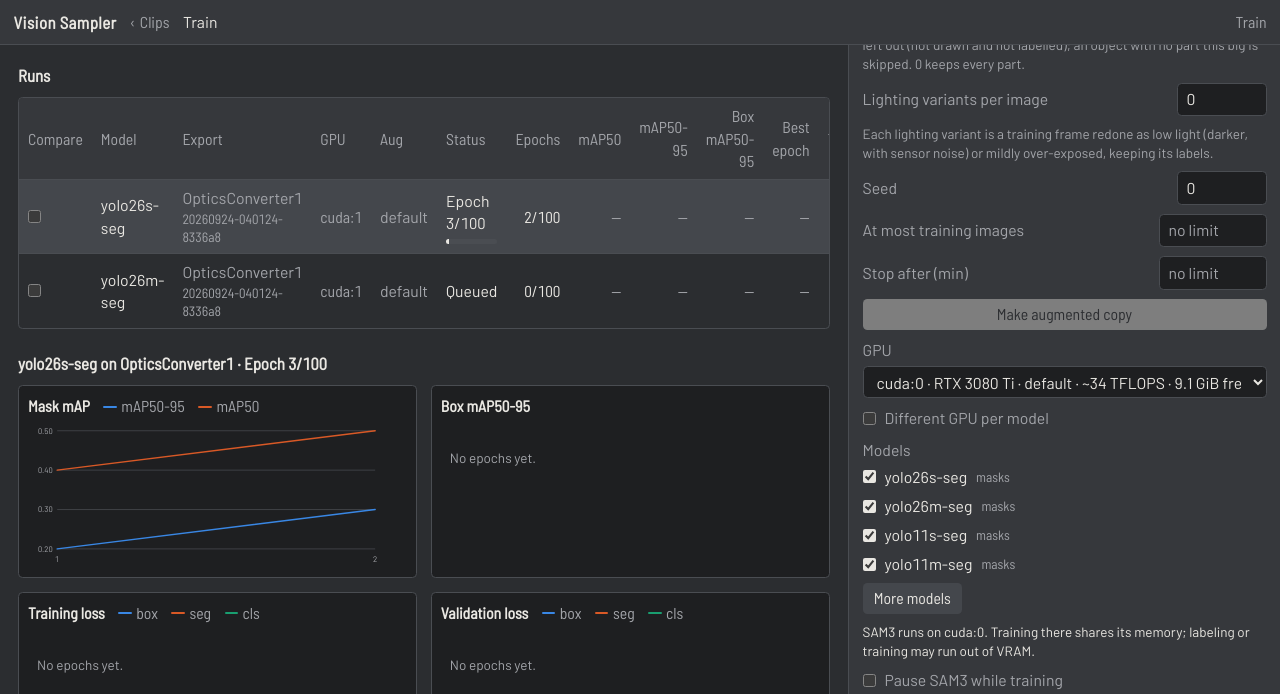
it: Train page › warns about SAM3 by default (its GPU is the fastest idle one), clearing when a different GPU is picked
The width and height of the screenshot is (1280, 694).
(page scrolled)
Check: the text "SAM3 runs on cuda:0" is shown, box [862,623,1266,660]
Select "cuda:1 · RTX 2080 Ti · ~14 TFLOPS · 5.5 GiB free" in the dropdown labelled "GPU": (1064,382) [862,366,1266,398]
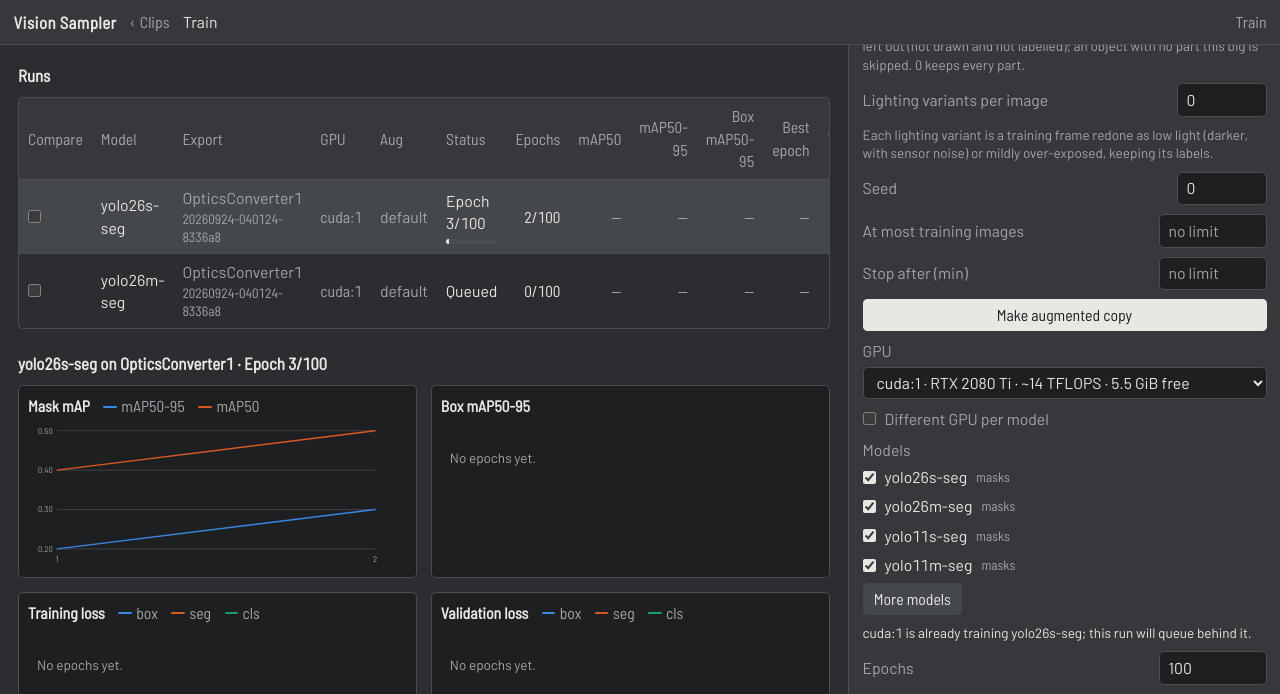
Check: the text "SAM3 runs on cuda:0" is gone
